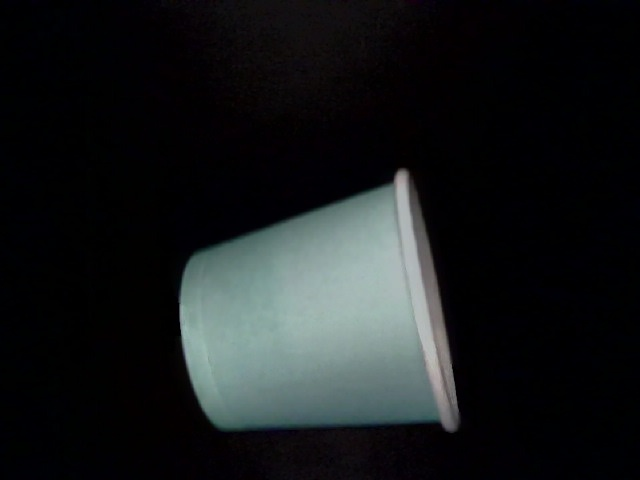KHSLJ: (1, 57, 468, 474)
